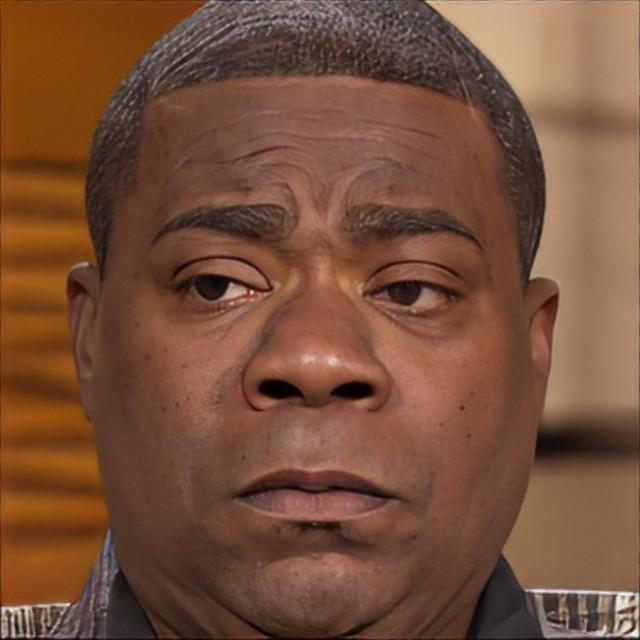sad: (101, 92, 529, 634)
